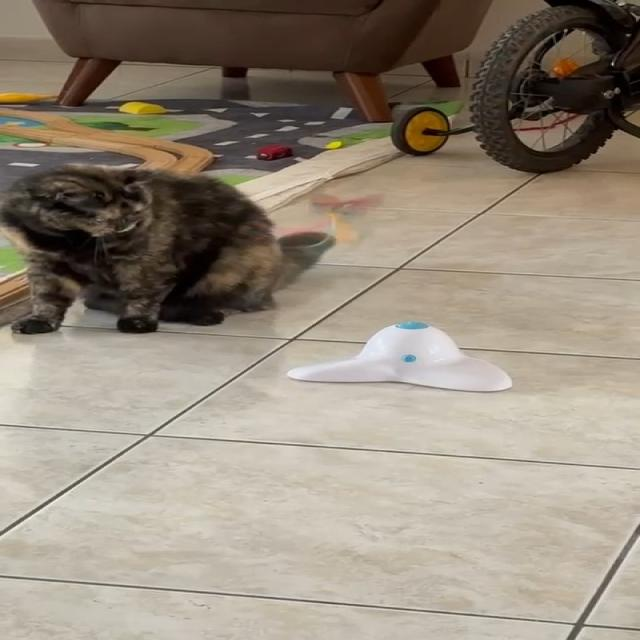authorized: (0, 162, 299, 334)
